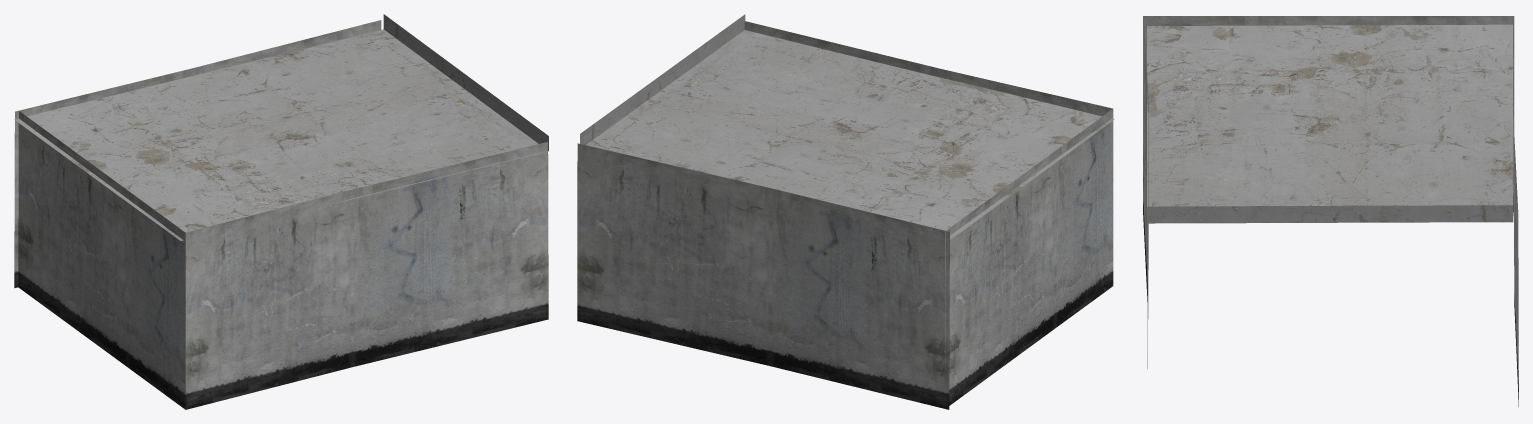
3 views of the same model, side by side, from view 1: azimuth 30°, elevation 25°; view 2: azimuth 150°, elevation 25°; view 3: azimuth 270°, elevation 25° (orthographic). The views are drawn at different scales.
Parts seen in each view (by area): view 1: sm_GarageInside_01_01_LOD0; view 2: sm_GarageInside_01_01_LOD0; view 3: sm_GarageInside_01_01_LOD0.
Boxes of the visible parts, <box> form: sm_GarageInside_01_01_LOD0: <box>14,14,548,409</box>; sm_GarageInside_01_01_LOD0: <box>577,14,1114,409</box>; sm_GarageInside_01_01_LOD0: <box>1143,16,1518,406</box>.
Size of the model in its own units: 507 by 638 by 305.
